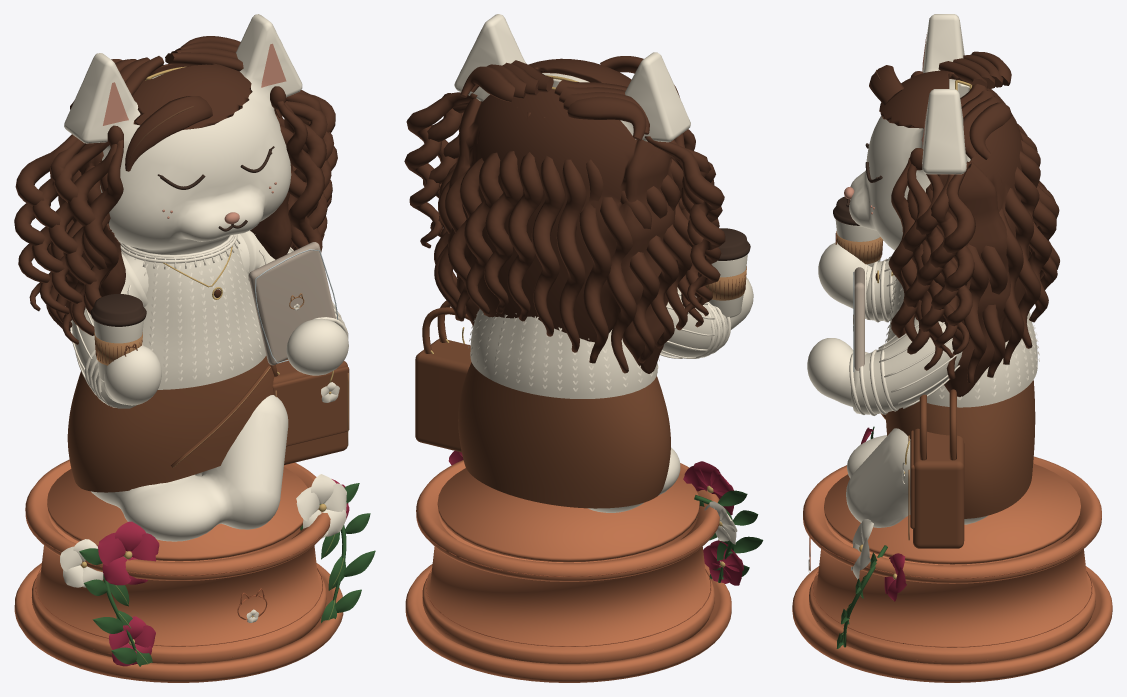
Rendered from pay-poise.v2.glb.
3 renders of one model, left to right at view 1: azimuth 30°, elevation 25°; view 2: azimuth 150°, elevation 25°; view 3: azimuth 270°, elevation 25°, orthographic. The views are drawn at different scales.
Visible parts, largest first — view 1: Poise | Ivory_Glaze, Poise | Terracotta, Poise | Chestnut_Hair, Poise | Cognac_Leather, Poise | Cream_Knit, Poise | Laptop_Champagne, Poise | Leaf_Glaze, Poise | Knit_Stitches, Poise | Mandevilla_Red, Poise | Espresso_Ink, Poise | Rose_Glaze, Poise | Warm_Seams (+2 smaller); view 2: Poise | Chestnut_Hair, Poise | Terracotta, Poise | Cognac_Leather, Poise | Cream_Knit, Poise | Ivory_Glaze, Poise | Knit_Stitches, Poise | Mandevilla_Red, Poise | Leaf_Glaze, Poise | Terracotta_Shadow, Poise | Warm_Seams, Poise | Espresso_Ink; view 3: Poise | Terracotta, Poise | Chestnut_Hair, Poise | Ivory_Glaze, Poise | Cognac_Leather, Poise | Cream_Knit, Poise | Knit_Stitches, Poise | Laptop_Champagne, Poise | Terracotta_Shadow, Poise | Warm_Seams, Poise | Leaf_Glaze, Poise | Mandevilla_Red, Poise | Espresso_Ink.
Part boxes in pixels (left/top/right/bottom): Poise | Ivory_Glaze: left=60, top=14, right=348, bottom=622; Poise | Terracotta: left=14, top=459, right=343, bottom=682; Poise | Chestnut_Hair: left=14, top=36, right=337, bottom=344; Poise | Cognac_Leather: left=67, top=338, right=349, bottom=492; Poise | Cream_Knit: left=72, top=230, right=340, bottom=408; Poise | Laptop_Champagne: left=248, top=242, right=335, bottom=365; Poise | Leaf_Glaze: left=79, top=483, right=375, bottom=666; Poise | Knit_Stitches: left=70, top=234, right=348, bottom=407; Poise | Mandevilla_Red: left=98, top=479, right=349, bottom=666; Poise | Espresso_Ink: left=90, top=146, right=274, bottom=326; Poise | Rose_Glaze: left=103, top=43, right=286, bottom=224; Poise | Warm_Seams: left=94, top=293, right=348, bottom=467; Poise | Chestnut_Hair: left=404, top=56, right=725, bottom=373; Poise | Terracotta: left=405, top=460, right=731, bottom=682; Poise | Cognac_Leather: left=415, top=273, right=746, bottom=508; Poise | Cream_Knit: left=470, top=254, right=747, bottom=398; Poise | Ivory_Glaze: left=454, top=14, right=753, bottom=544; Poise | Knit_Stitches: left=468, top=293, right=731, bottom=391; Poise | Mandevilla_Red: left=448, top=451, right=743, bottom=585; Poise | Leaf_Glaze: left=694, top=490, right=763, bottom=582; Poise | Terracotta_Shadow: left=416, top=510, right=719, bottom=661; Poise | Warm_Seams: left=706, top=266, right=746, bottom=300; Poise | Espresso_Ink: left=718, top=228, right=750, bottom=260; Poise | Terracotta: left=792, top=456, right=1112, bottom=682; Poise | Chestnut_Hair: left=869, top=51, right=1059, bottom=396; Poise | Ivory_Glaze: left=807, top=14, right=987, bottom=579; Poise | Cognac_Leather: left=835, top=233, right=1035, bottom=548; Poise | Cream_Knit: left=835, top=219, right=1037, bottom=414; Poise | Knit_Stitches: left=849, top=256, right=1039, bottom=415; Poise | Laptop_Champagne: left=854, top=267, right=864, bottom=370; Poise | Terracotta_Shadow: left=803, top=517, right=1101, bottom=661; Poise | Warm_Seams: left=836, top=231, right=909, bottom=540; Poise | Leaf_Glaze: left=836, top=426, right=887, bottom=648; Poise | Mandevilla_Red: left=860, top=427, right=906, bottom=601; Poise | Espresso_Ink: left=833, top=143, right=882, bottom=225.
Bounding box in the file's own units: 0.5736 × 1 × 0.5105.
